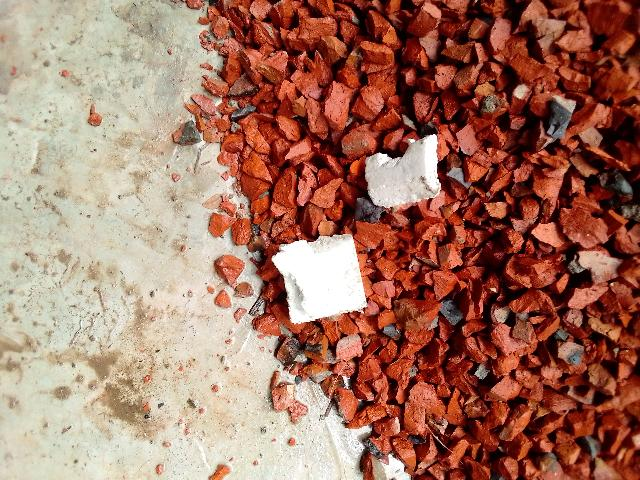cocksheet: (243, 128, 459, 344)
